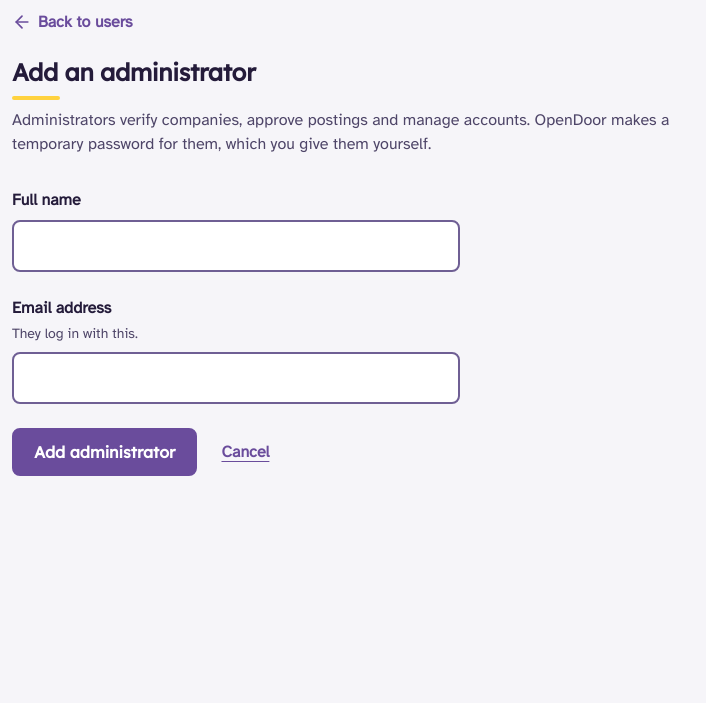
Test: AddAdminPage › asks for a name and an email first
Click the button "Add administrator" at point(105, 452), box [12,428,198,476]
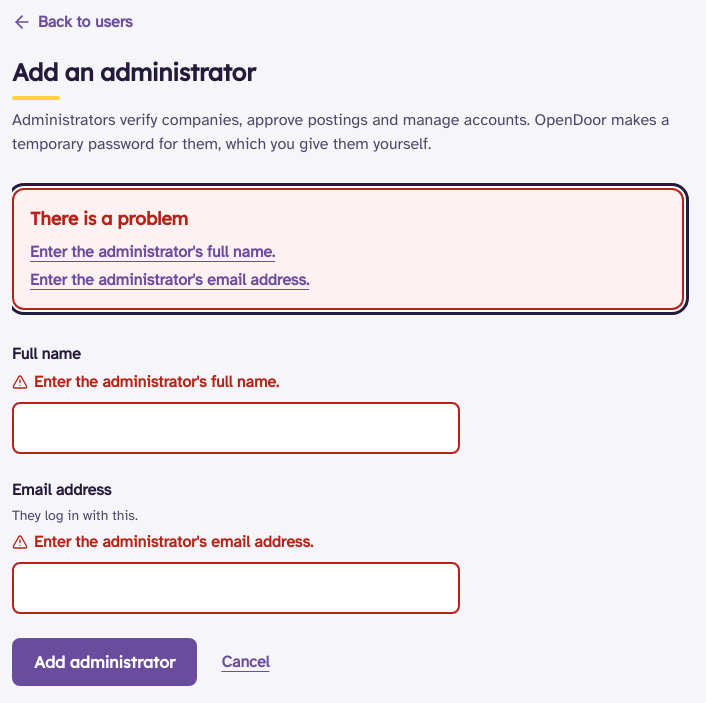
Check: the heading "There is a problem" is shown, box [30,207,188,230]
Check: the number of links "Enter the administrator's full name." is 2, box [30,242,275,262]; [34,370,279,394]
